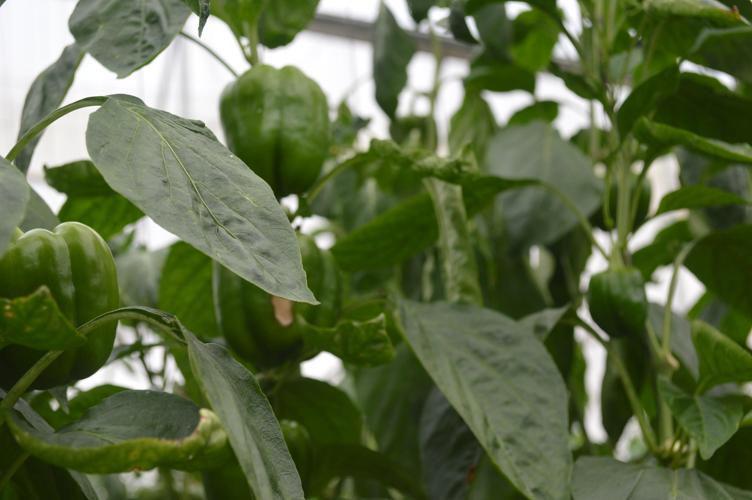BellPepper: (1, 230, 120, 391), (215, 225, 345, 367), (209, 66, 341, 201), (588, 263, 673, 348)
